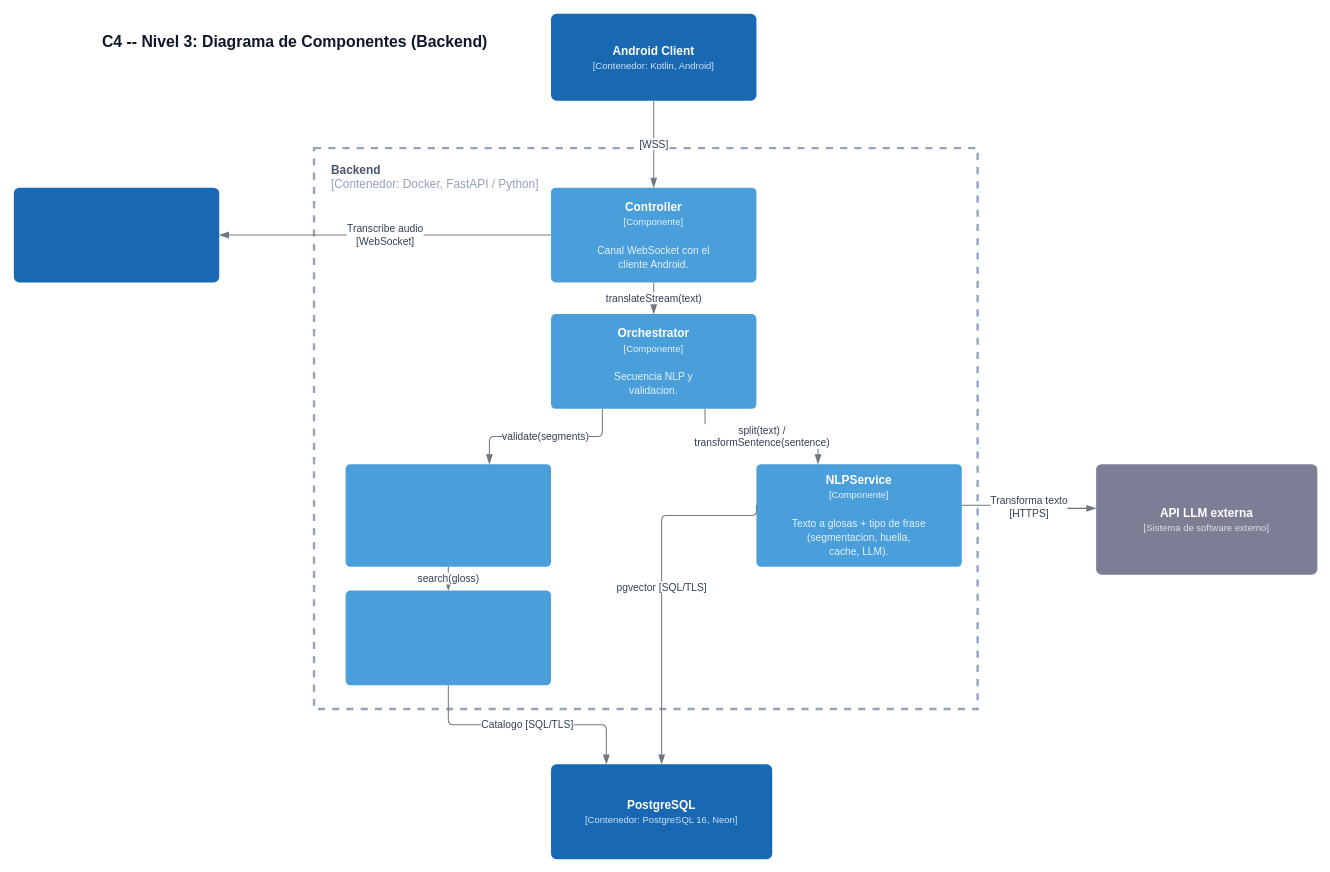
Some shapes in this 1330 by 872 pixel diagram are drawn without their labels. Each missing label, with the centre of its shape:
CatalogRepository [Componente] Catalogo en memoria, cargado al arrancar.: (448,637)
STT Container [Contenedor: Docker, faster-whisper]: (116,234)
ValidatorService [Componente] Valida glosas contra el catalogo.: (448,515)
